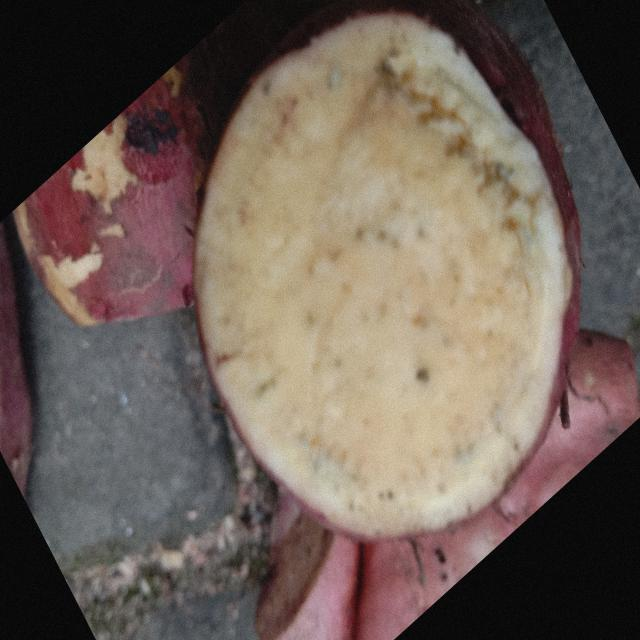Healthy Sweet Potato: (194, 2, 580, 540)
